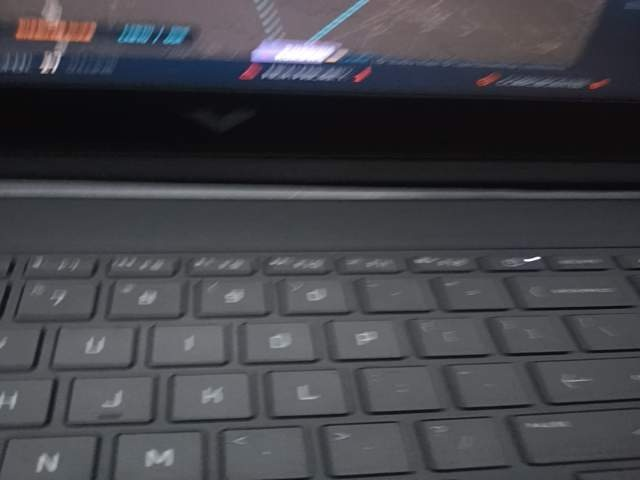pothole: (106, 403, 318, 480), (536, 403, 640, 480)
